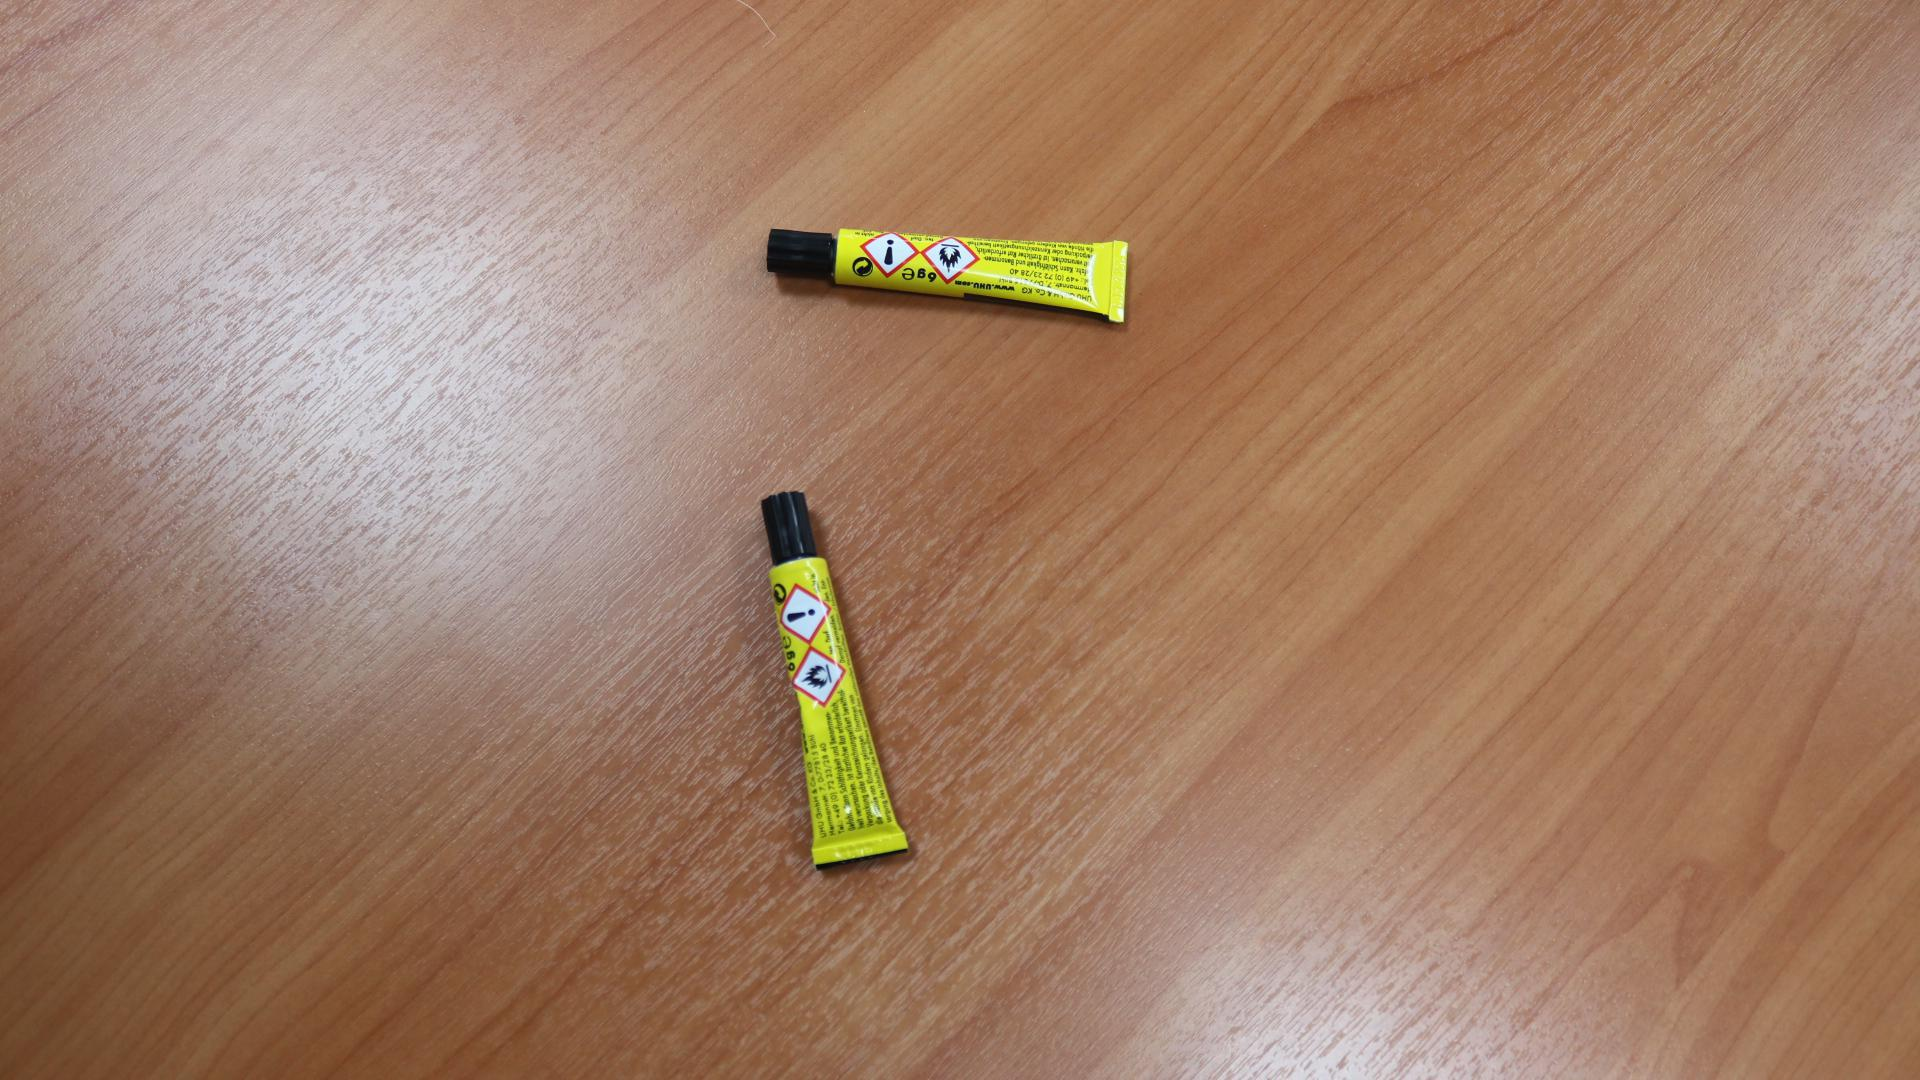Head: (780, 521, 793, 533), (796, 246, 806, 255)
Tail: (851, 847, 862, 857), (1114, 275, 1123, 284)
Tube: (761, 491, 909, 870), (764, 227, 1130, 325)
